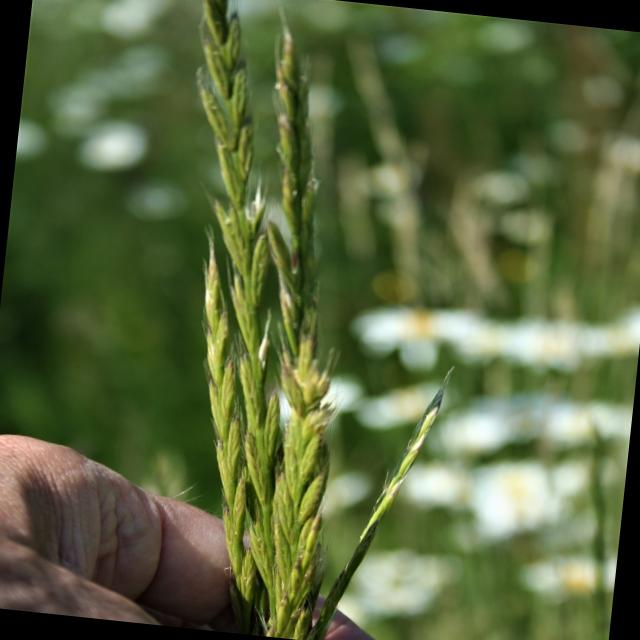Lolium: (129, 0, 493, 640)
